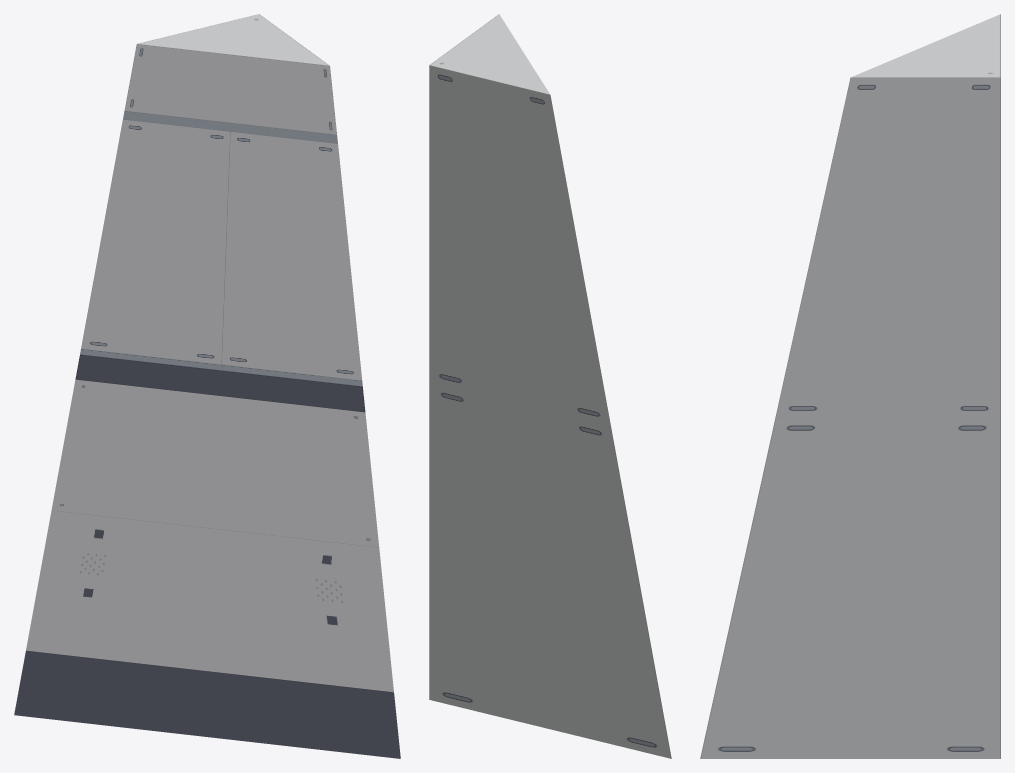
The model's file is Wall_Big_Angle_01.FBX.
The picture shows the model from 3 angles, left to right: view 1: azimuth 30°, elevation 25°; view 2: azimuth 150°, elevation 25°; view 3: azimuth 270°, elevation 25°; orthographic projection. The views are drawn at different scales.
Parts seen in each view (by area): view 1: Wall_Big_Angle_01; view 2: Wall_Big_Angle_01; view 3: Wall_Big_Angle_01.
Part boxes in pixels (x1=…): Wall_Big_Angle_01: x1=14, y1=14, x2=400, y2=758; Wall_Big_Angle_01: x1=429, y1=14, x2=671, y2=758; Wall_Big_Angle_01: x1=700, y1=14, x2=1000, y2=758.
Bounding box in the file's own units: 4 × 10 × 4.
Materials: 2 (2 with a texture image).
